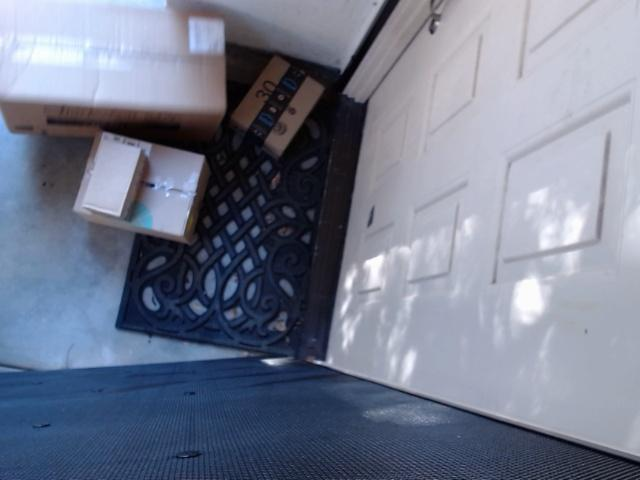box: (0, 0, 243, 137), (57, 123, 232, 263), (227, 39, 334, 158), (71, 126, 155, 220)
